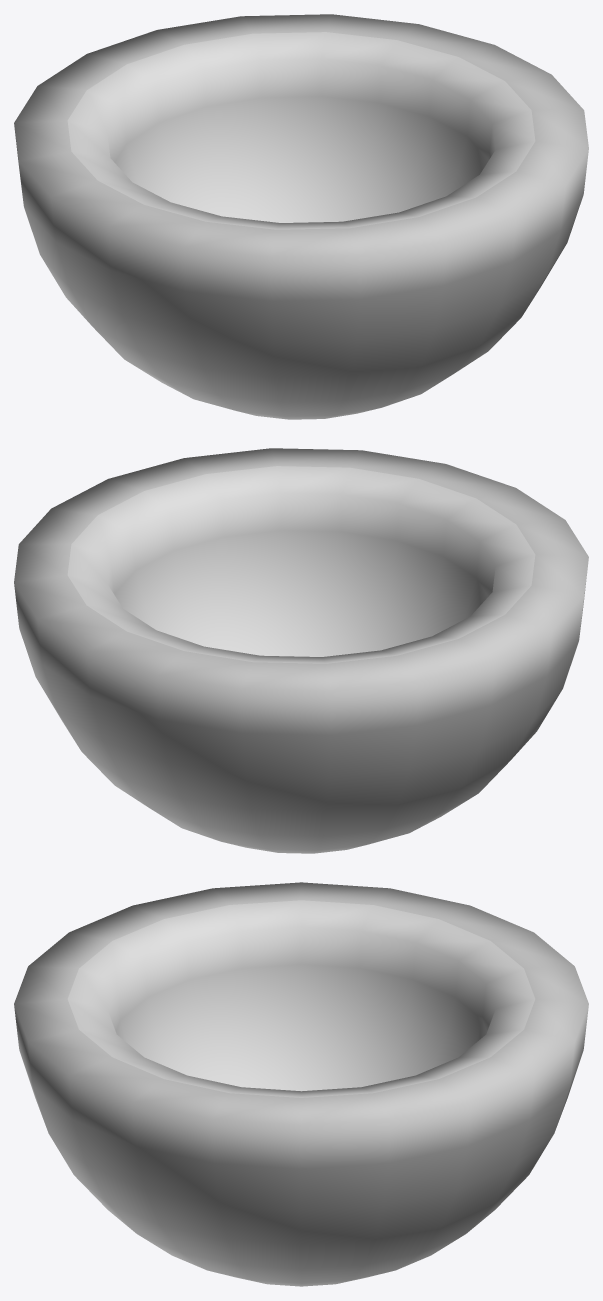
Rendered from Coconut.fbx.
3 renders of one model, top to bottom at view 1: azimuth 30°, elevation 25°; view 2: azimuth 150°, elevation 25°; view 3: azimuth 270°, elevation 25°, orthographic.
Visible parts, largest first — view 1: Coconut; view 2: Coconut; view 3: Coconut.
Boxes of the visible parts, bbox=[...] form: Coconut: bbox=[14, 14, 588, 419]; Coconut: bbox=[14, 448, 588, 853]; Coconut: bbox=[14, 882, 588, 1286].
Bounding box in the file's own units: 246 × 123 × 246.
